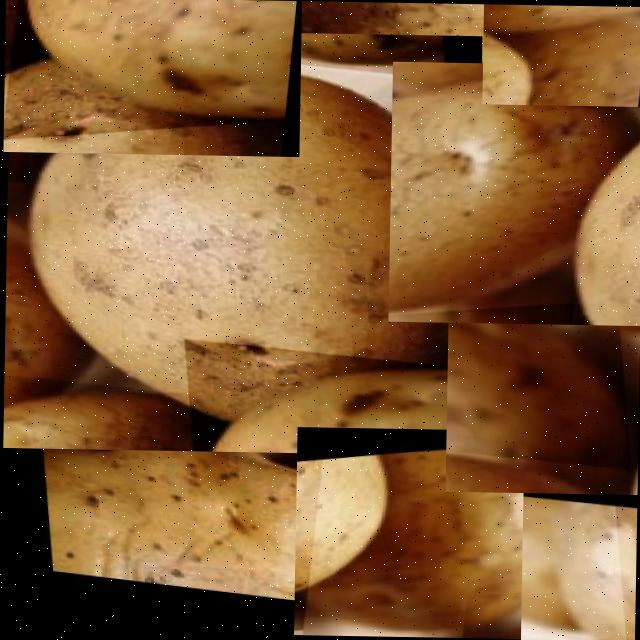Potato: (3, 27, 482, 454), (28, 410, 380, 618), (388, 60, 640, 324), (294, 426, 596, 638), (2, 0, 301, 155), (445, 274, 640, 493), (234, 0, 543, 119), (520, 489, 637, 640), (481, 2, 640, 105)
